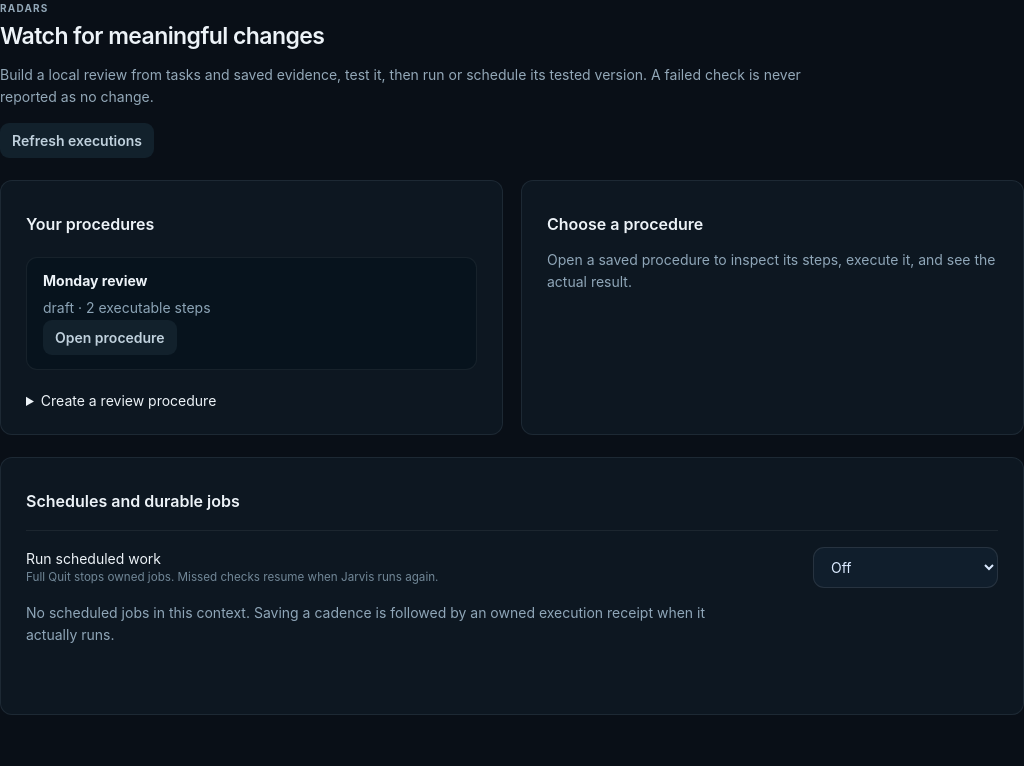
Test: owner-managed learning and execution › executes fixtures through the adapter and labels shadow failure as failure, not no-change
This screenshot has width=1024, height=766.
Click the button "Open procedure": (110, 337) top-left (43, 320), bottom-right (177, 355)
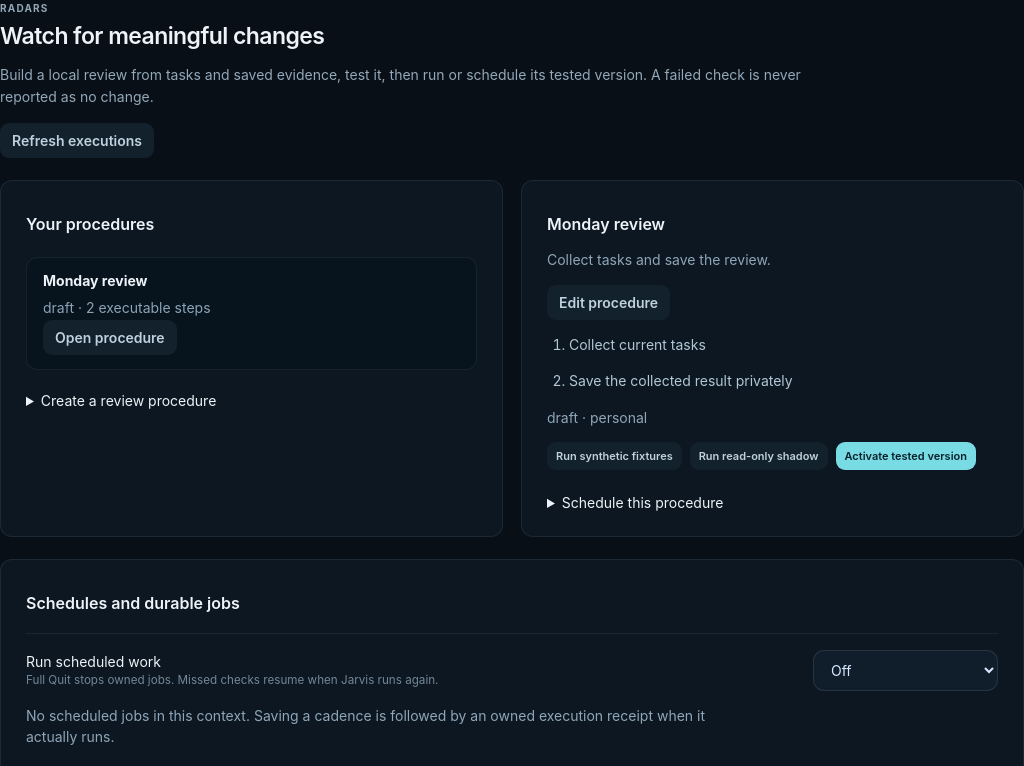
Click the button "Run synthetic fixtures": (614, 456) top-left (547, 442), bottom-right (682, 470)
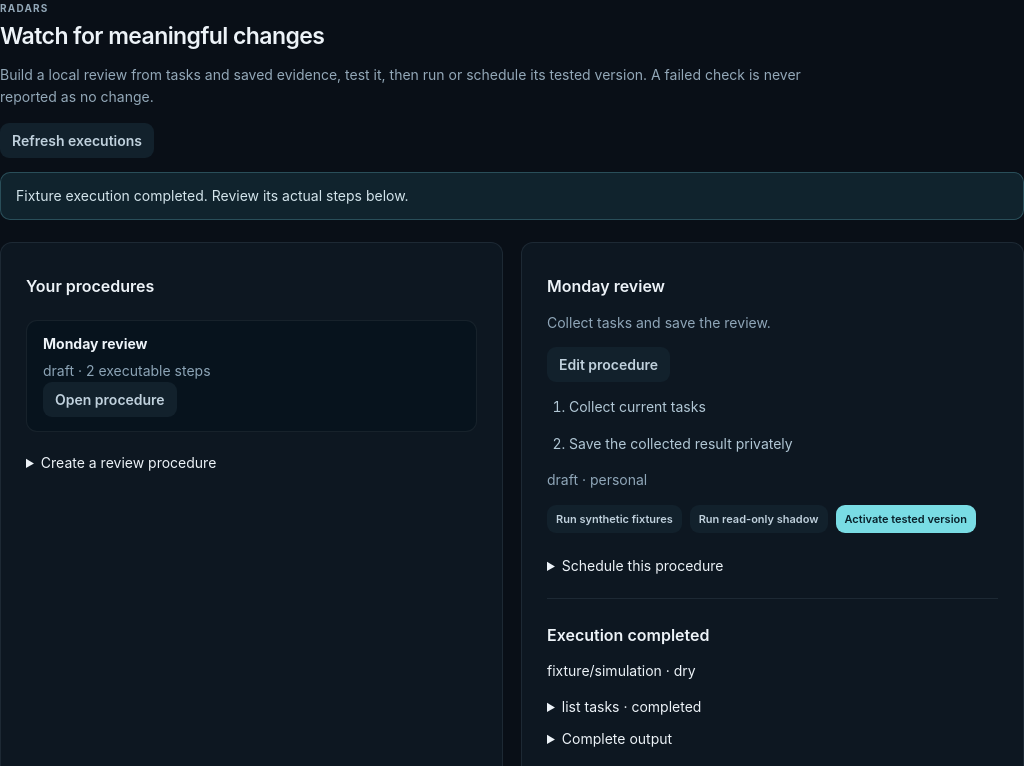
Result: the text "fixture/simulation · dry" is shown at top-left (547, 662), bottom-right (696, 679)
Click the button "Run read-only shadow": (759, 519) top-left (690, 505), bottom-right (828, 533)
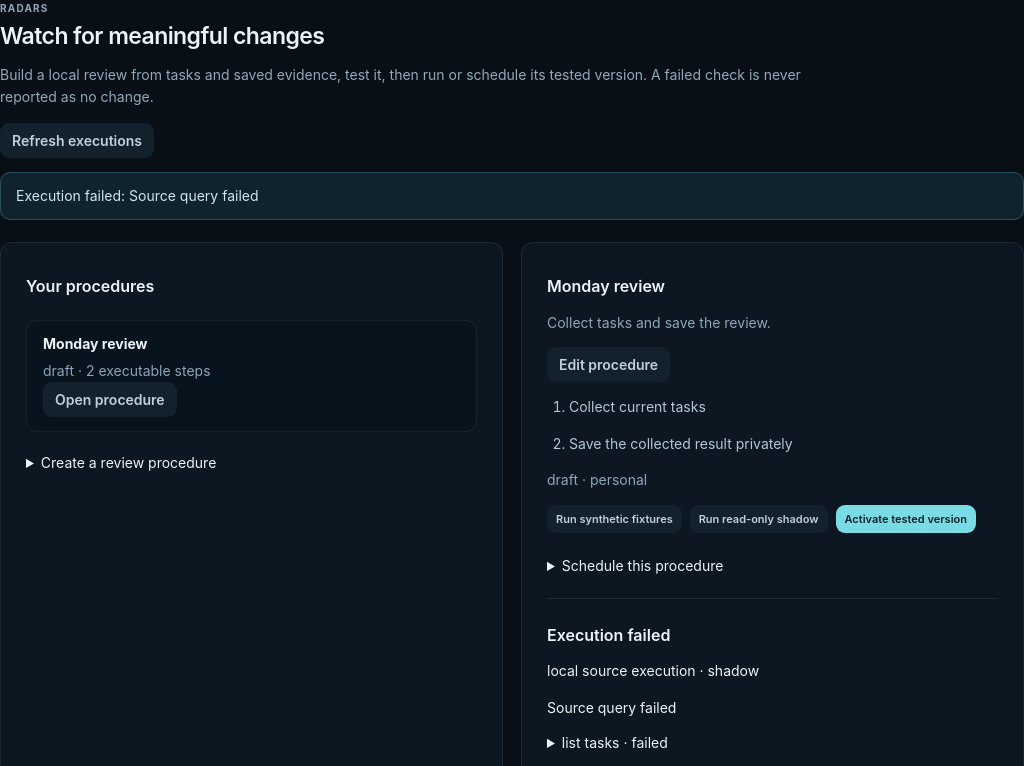
Result: the heading "Execution failed" is shown at top-left (547, 625), bottom-right (670, 645)
Result: the message "Source query failed" is shown at top-left (547, 698), bottom-right (676, 716)
